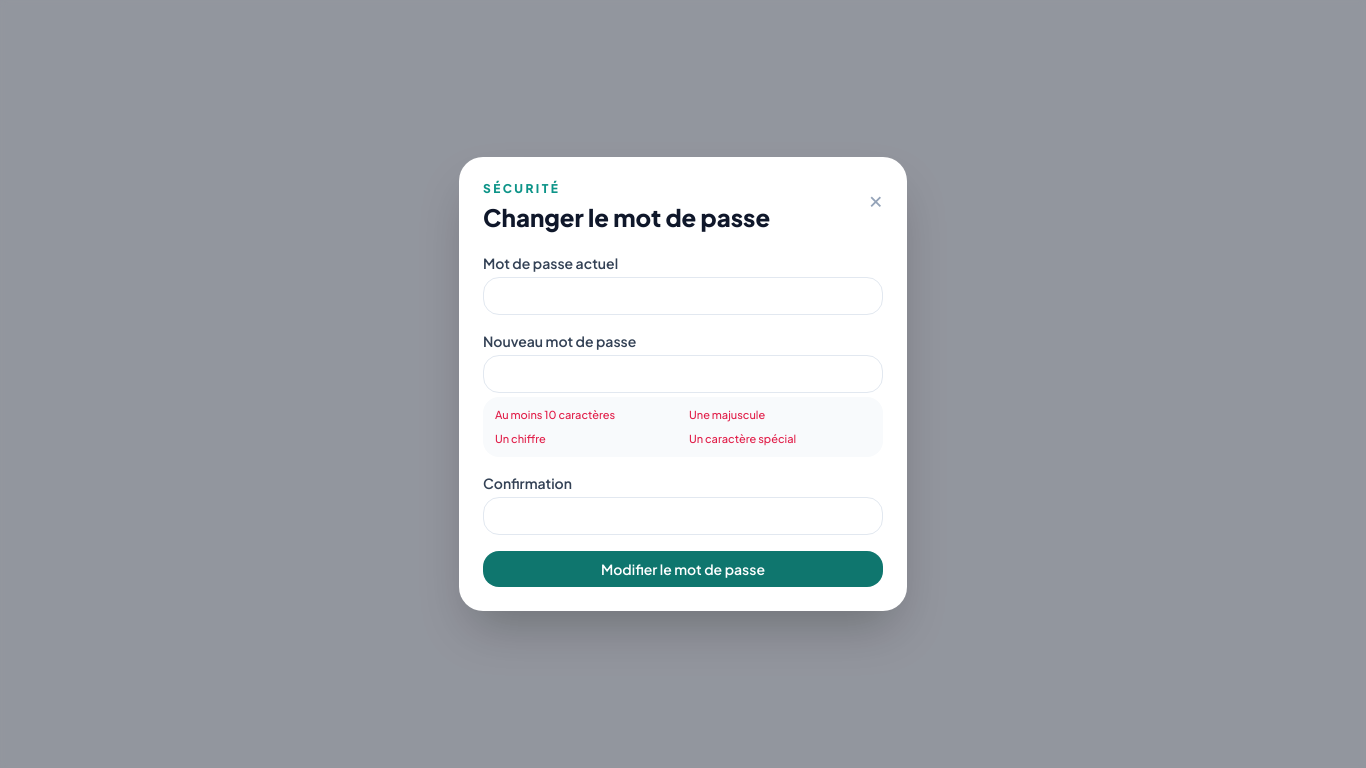
Test: ChangePasswordModal — politique de mot de passe › refuse « Court1! » sans appeler le serveur
The width and height of the screenshot is (1366, 768).
Expected: the text "Au moins 10 caractères" is shown, left=495, top=408, right=615, bottom=421
Step 1. Type "Ancien-2025" into the password field labelled "Mot de passe actuel" → (683, 296), box left=483, top=277, right=883, bottom=315
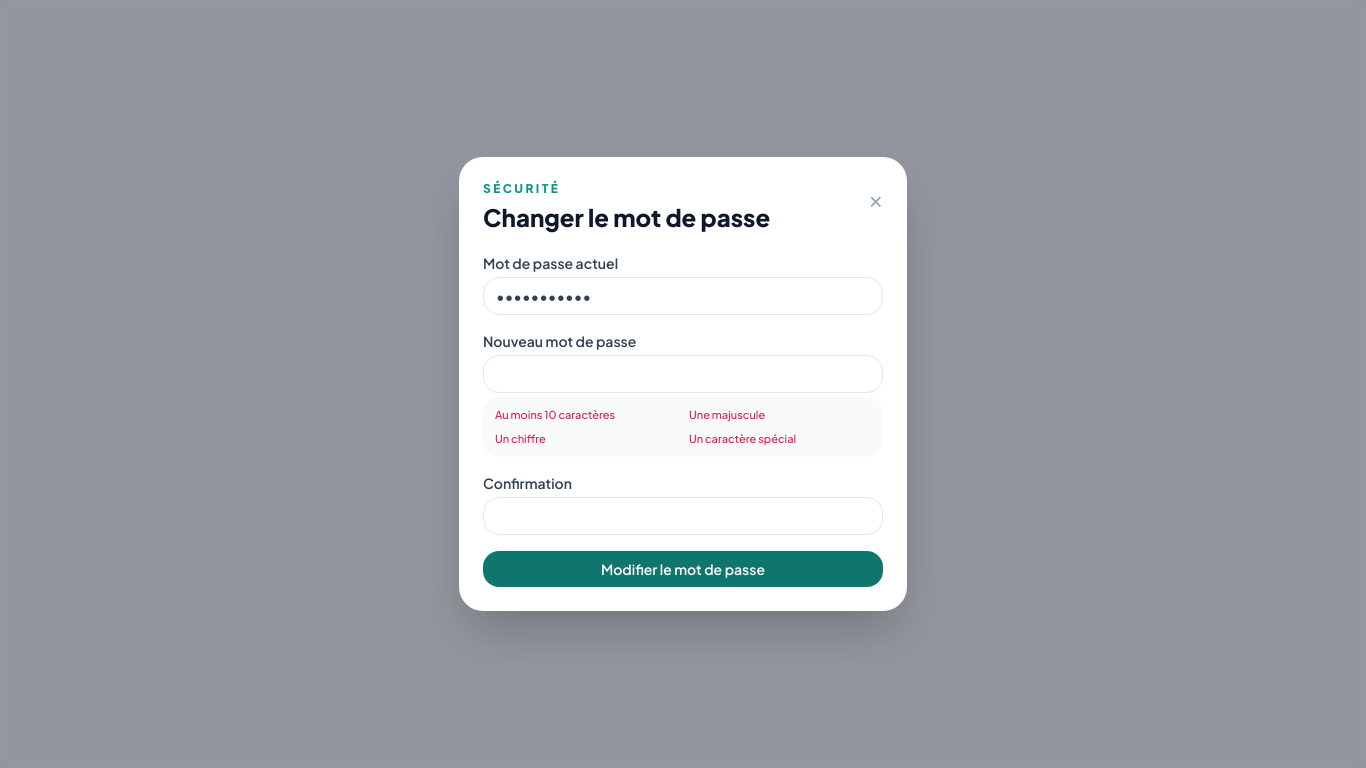
Step 2. Type "Court1!" into the 2nd password field → (683, 374), box left=483, top=355, right=883, bottom=393
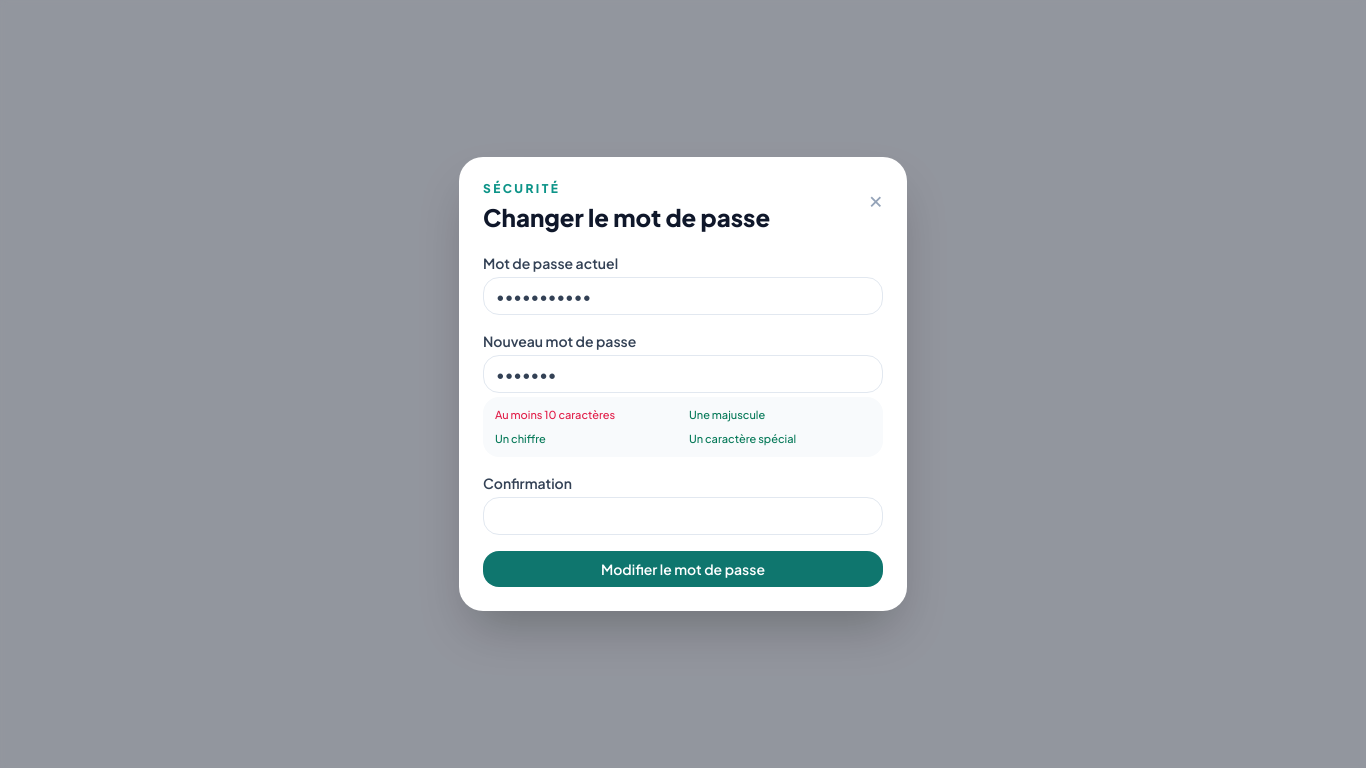
Step 3. Type "Court1!" into the password field labelled "Confirmation" → (683, 516), box left=483, top=497, right=883, bottom=535
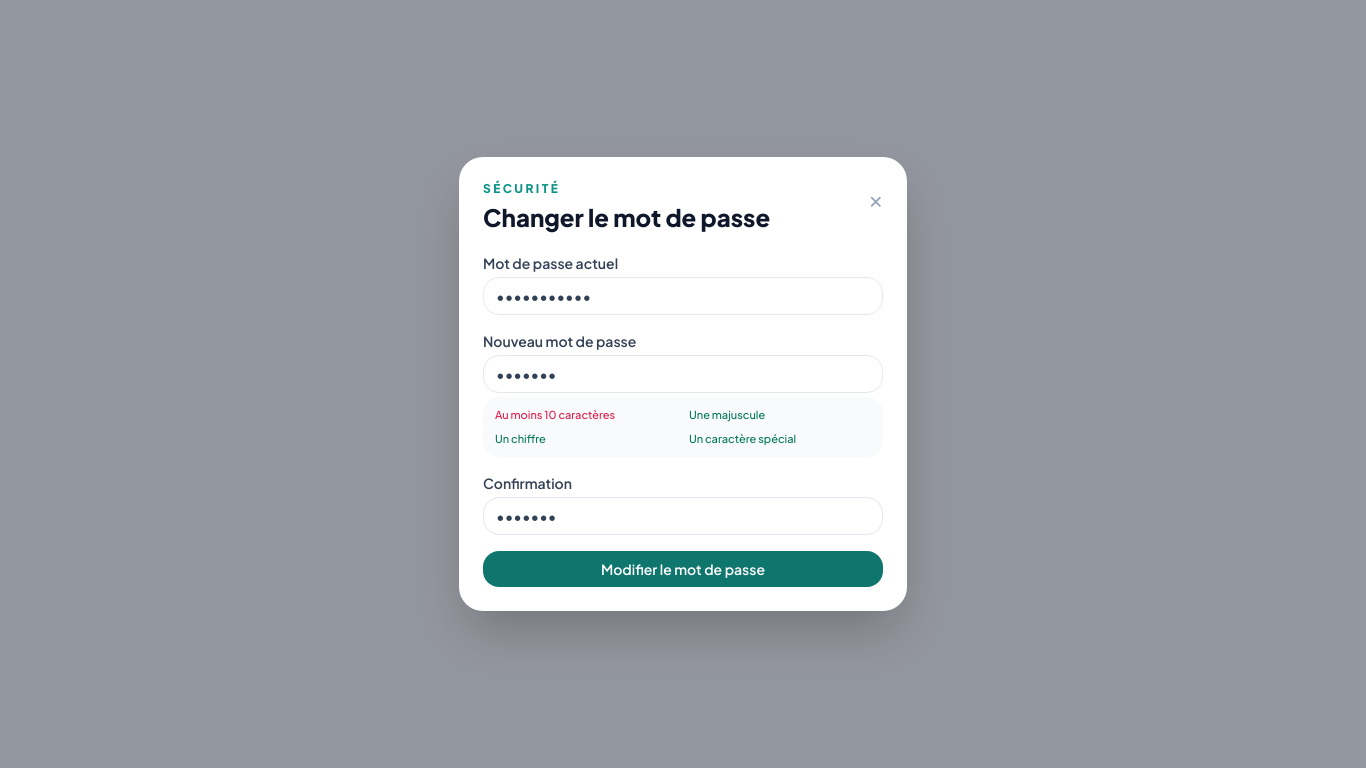
Step 4. Submit the form, box left=483, top=253, right=883, bottom=587
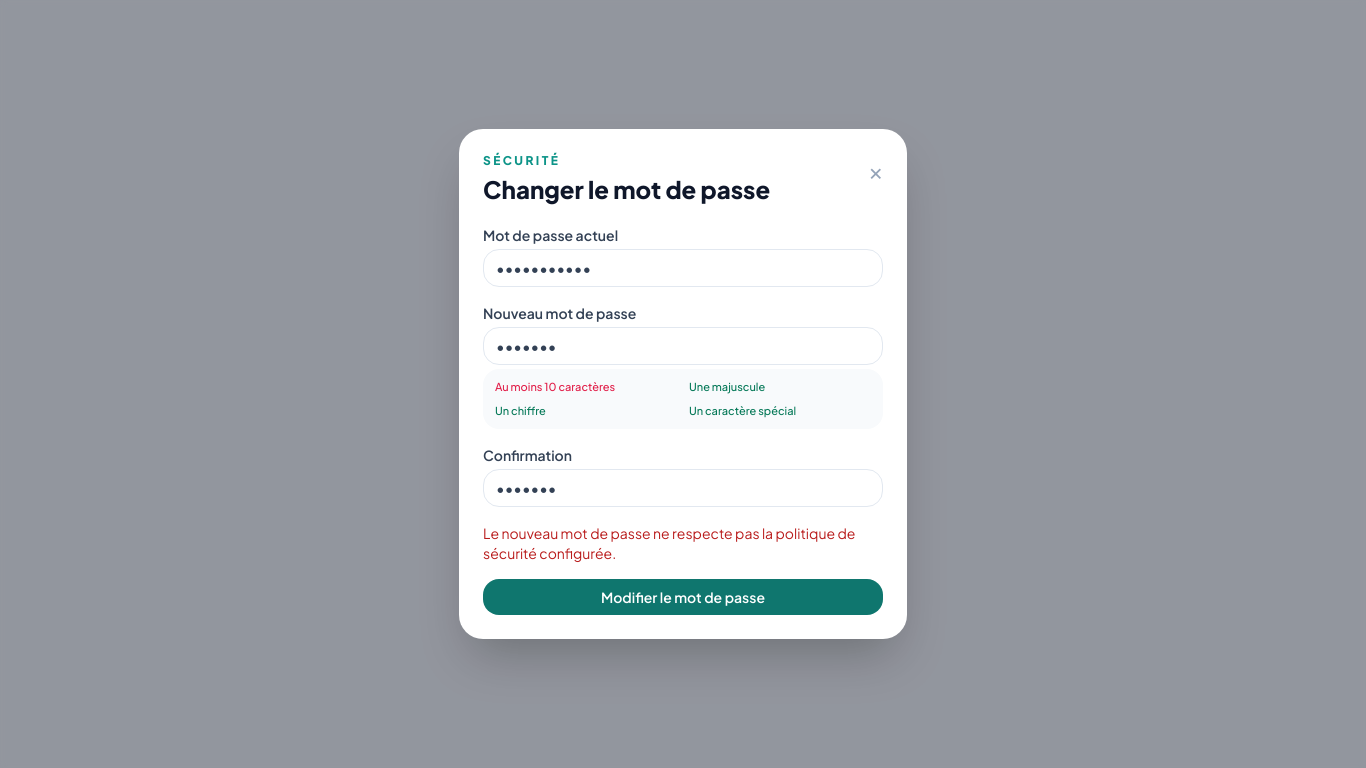
Now the message shows "politique de sécurité", box left=483, top=524, right=855, bottom=562
